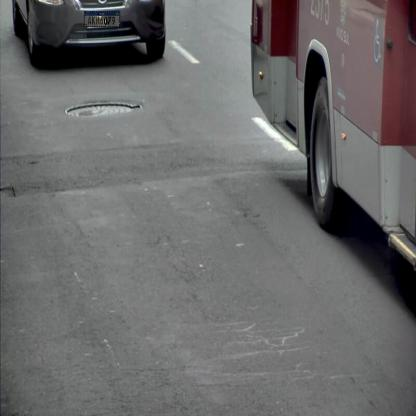PlacaM: (84, 11, 120, 27)
